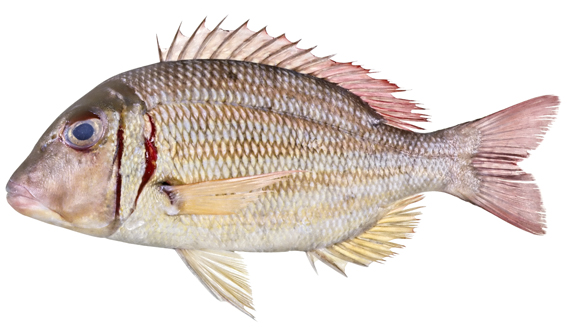fish: (5, 15, 560, 323)
